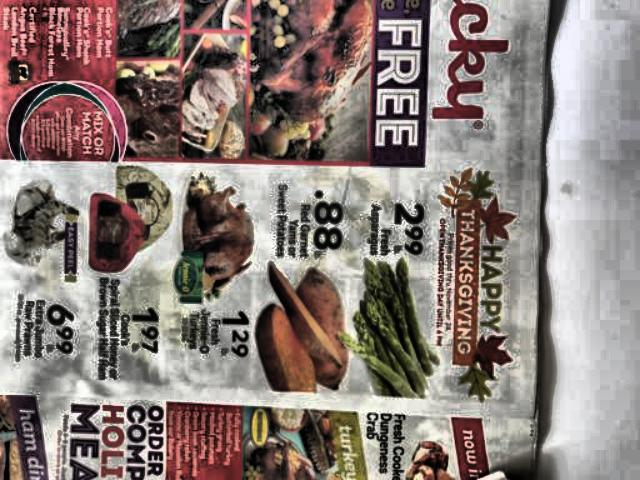Paper: (0, 0, 558, 480)
